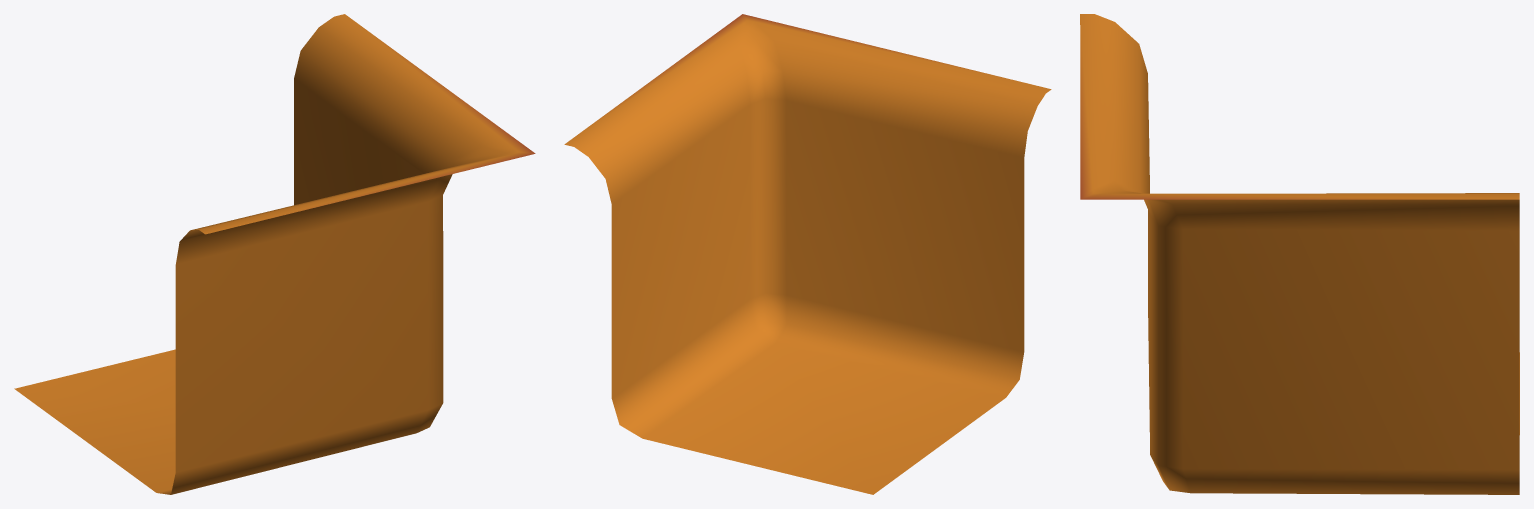
Rendered from Base_PoolCorner.fbx.
3 views of the same model, side by side, from view 1: azimuth 30°, elevation 25°; view 2: azimuth 150°, elevation 25°; view 3: azimuth 270°, elevation 25° (orthographic). The views are drawn at different scales.
Visible parts, largest first — view 1: Base_PoolCorner; view 2: Base_PoolCorner; view 3: Base_PoolCorner.
Part boxes in pixels (x1,y1,x2,y2): Base_PoolCorner: (14, 14, 535, 494); Base_PoolCorner: (564, 14, 1051, 494); Base_PoolCorner: (1080, 14, 1519, 494).
Bounding box in the file's own units: 2000 × 1700 × 2001.
